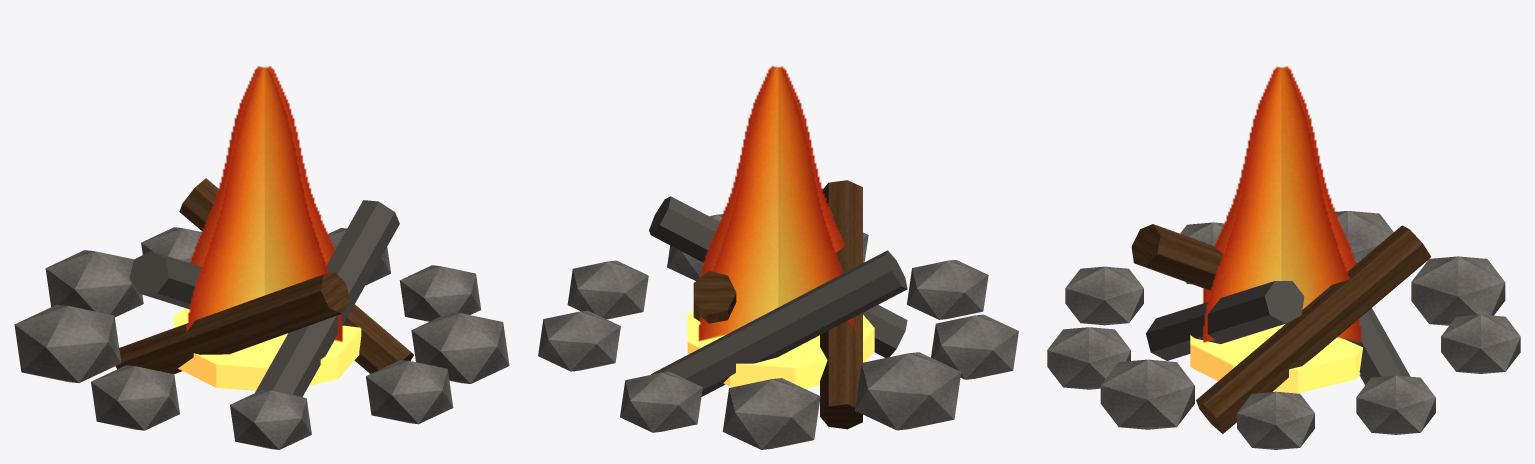
Rendered from campfire.glb.
3 views of the same model, side by side, from view 1: azimuth 30°, elevation 25°; view 2: azimuth 150°, elevation 25°; view 3: azimuth 270°, elevation 25° (orthographic).
Visible parts, largest first — view 1: campfire; view 2: campfire; view 3: campfire.
Boxes of the visible parts, left/top/right/bottom form: campfire: left=14, top=66, right=509, bottom=449; campfire: left=538, top=66, right=1018, bottom=449; campfire: left=1047, top=66, right=1520, bottom=449.
Size of the model in its own units: 1.5 by 1.09 by 1.46.
Materials: 5 (3 with a texture image).
